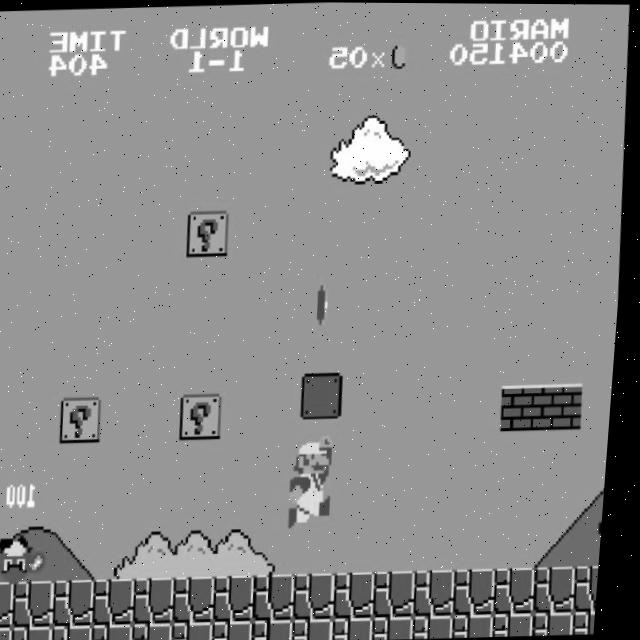1- brick_block: (544, 382, 590, 429), (504, 383, 550, 430)
13- mystery_block: (183, 392, 229, 439), (188, 210, 234, 256), (64, 396, 109, 443)
17- undestructible_block: (460, 567, 506, 615), (179, 575, 225, 623), (540, 565, 586, 612), (500, 566, 546, 613), (420, 568, 466, 615), (259, 573, 305, 620), (219, 574, 265, 621), (139, 577, 185, 624), (99, 578, 145, 625), (59, 579, 105, 626), (19, 580, 65, 627), (380, 569, 425, 617), (340, 571, 385, 618), (300, 572, 345, 619), (581, 563, 607, 610), (0, 581, 25, 628), (540, 610, 584, 635), (500, 612, 544, 636), (460, 613, 503, 637), (420, 614, 463, 638), (380, 615, 423, 639), (340, 616, 383, 640), (300, 617, 343, 640), (260, 618, 303, 640), (220, 619, 263, 640), (180, 620, 223, 640), (140, 622, 183, 640), (100, 623, 143, 640), (60, 624, 103, 640), (20, 625, 63, 640), (581, 609, 605, 632), (0, 626, 23, 640)
4- fire_mario: (293, 432, 345, 527)
